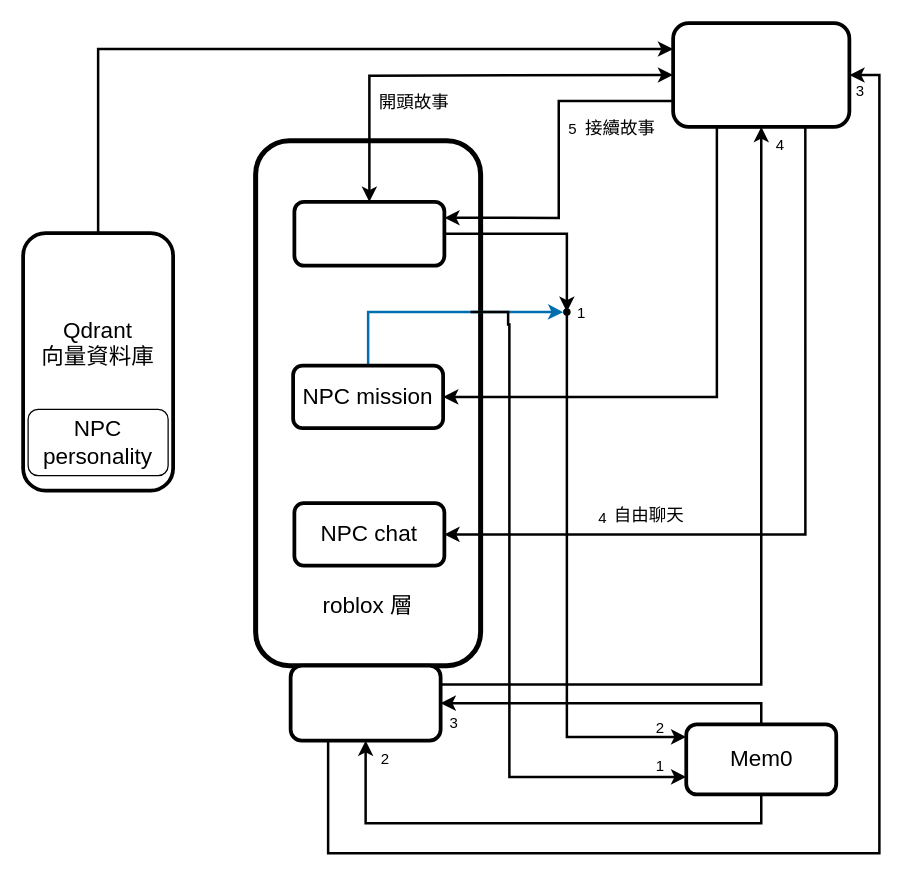
This 913x886 diagram has some shape labels left out. The box of each missing label's shape, as (x1, y1, x2, y2) in pixels:
LLM (Claude): (671, 21, 851, 128)
Monitor story: (292, 199, 446, 267)
呼叫LLM: (288, 663, 442, 742)
